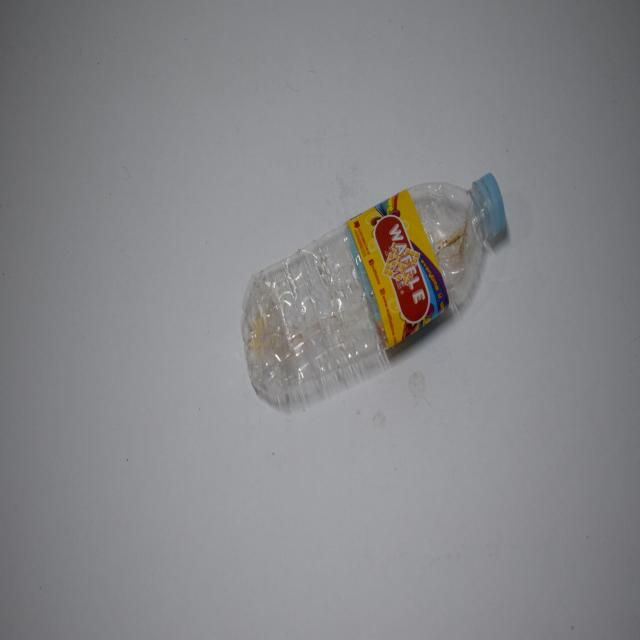bottle: (235, 156, 524, 415)
